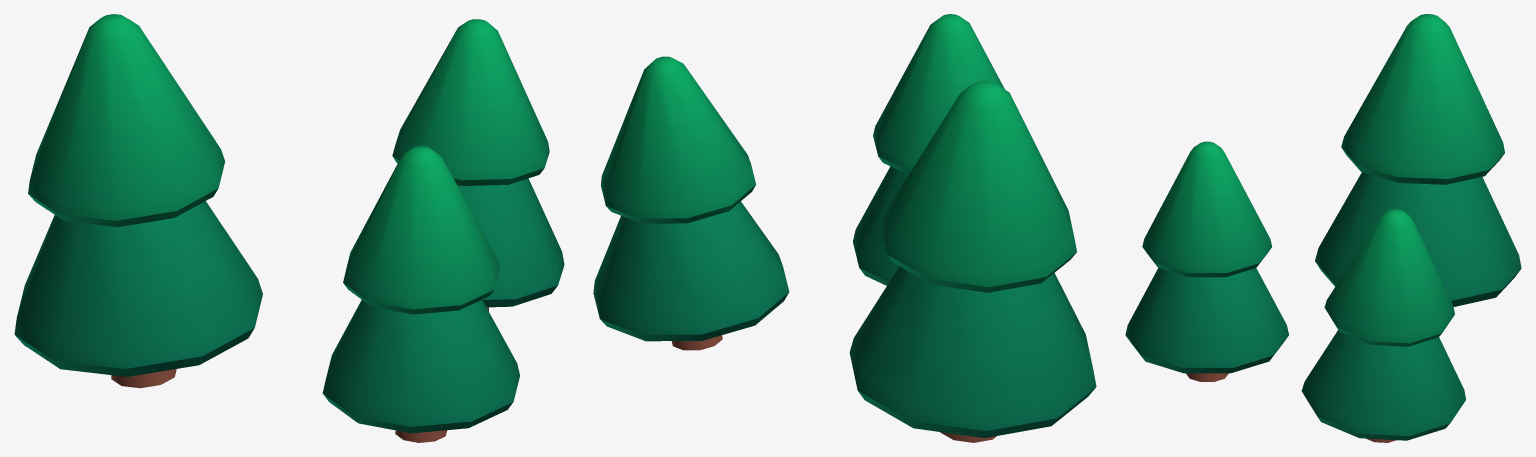
Rendered from kaykit-medieval-hexagon-pack-trees-b-small.glb.
3 views of the same model, side by side, from view 1: azimuth 30°, elevation 25°; view 2: azimuth 150°, elevation 25°; view 3: azimuth 270°, elevation 25° (orthographic). The views are drawn at different scales.
Visible parts, largest first — view 1: trees_B_small; view 2: trees_B_small; view 3: trees_B_small.
Boxes of the visible parts, box(x1,y1,x2,y2) form: trees_B_small: box(14, 14, 564, 442); trees_B_small: box(593, 14, 1096, 442); trees_B_small: box(1125, 14, 1521, 442).
Size of the model in its own units: 1.33 by 0.9218 by 1.14.
1 material, 1 textured.
